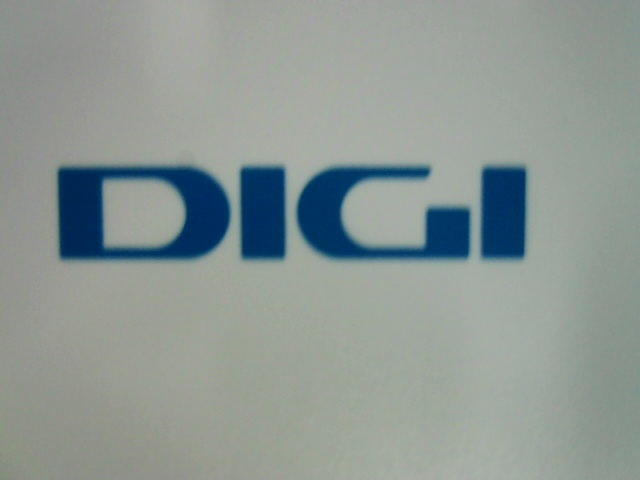BL_DIGI: (36, 142, 551, 301)
